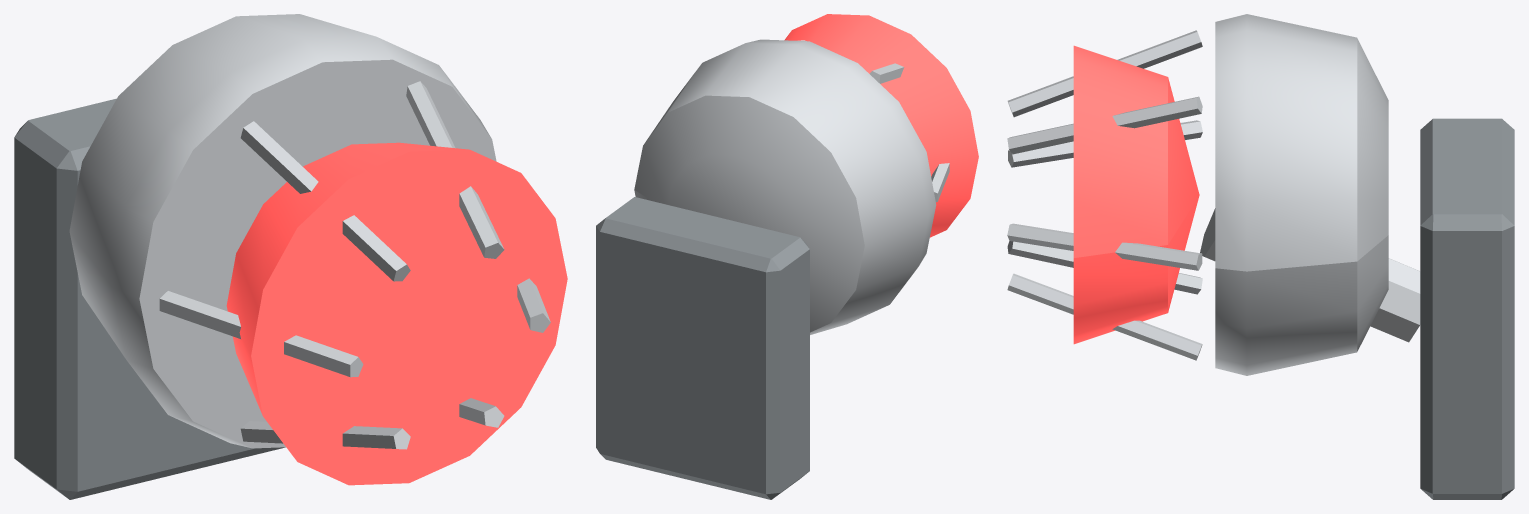
File: submarine-interior-and-control-room-deckhead-light-rig-914d32a5__36493.glb
The picture shows the model from 3 angles, left to right: view 1: azimuth 30°, elevation 25°; view 2: azimuth 150°, elevation 25°; view 3: azimuth 270°, elevation 25°; orthographic projection. The views are drawn at different scales.
Visible parts, largest first — view 1: deckhead-light-rigged-for-red; view 2: deckhead-light-rigged-for-red; view 3: deckhead-light-rigged-for-red.
Boxes of the visible parts, bbox=[...] form: deckhead-light-rigged-for-red: bbox=[14, 14, 567, 499]; deckhead-light-rigged-for-red: bbox=[596, 14, 978, 499]; deckhead-light-rigged-for-red: bbox=[1007, 14, 1514, 499].
Bounding box in the file's own units: 0.23 × 0.295 × 0.3221.
